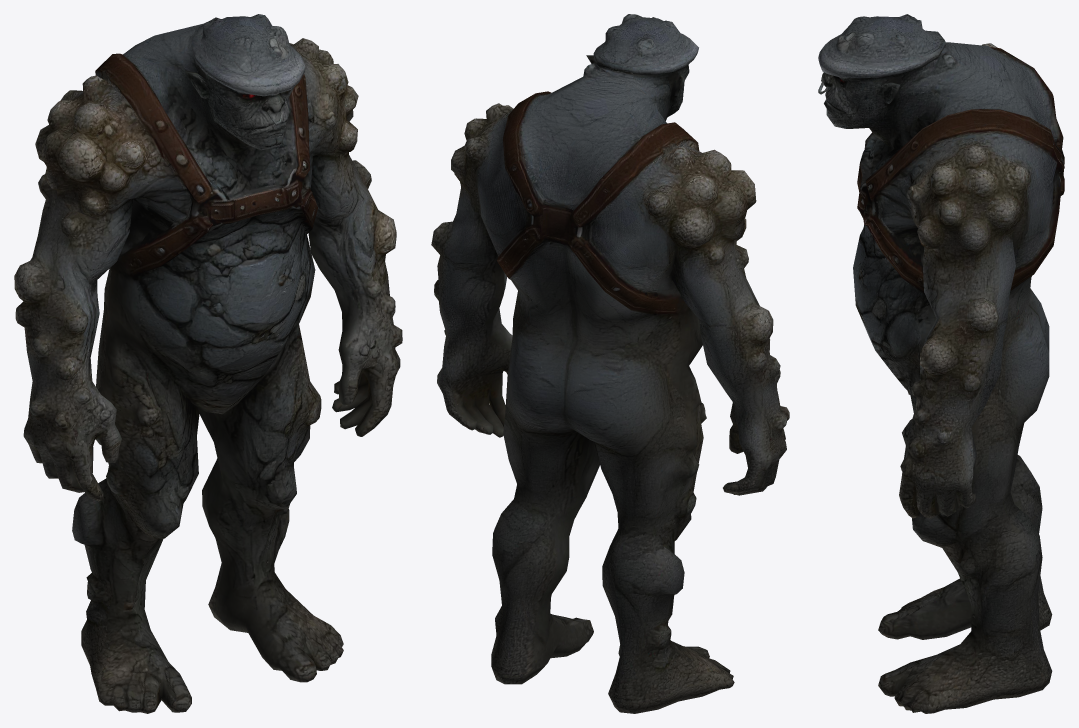
The model's file is 019f413e-b027-77fc-8caf-08fc9deba4da.glb.
3 views of the same model, side by side, from view 1: azimuth 30°, elevation 25°; view 2: azimuth 150°, elevation 25°; view 3: azimuth 270°, elevation 25° (orthographic). The views are drawn at different scales.
Visible parts, largest first — view 1: tripo_node_33b094a4-f9a9-4258-ab6d-65764ca9d72d; view 2: tripo_node_33b094a4-f9a9-4258-ab6d-65764ca9d72d; view 3: tripo_node_33b094a4-f9a9-4258-ab6d-65764ca9d72d.
Part boxes in pixels (<box>): tripo_node_33b094a4-f9a9-4258-ab6d-65764ca9d72d: <box>14,14,402,713</box>; tripo_node_33b094a4-f9a9-4258-ab6d-65764ca9d72d: <box>431,14,789,713</box>; tripo_node_33b094a4-f9a9-4258-ab6d-65764ca9d72d: <box>818,14,1064,713</box>.
Size of the model in its own units: 0.5645 by 0.998 by 0.3457.
1 material, 1 textured.
